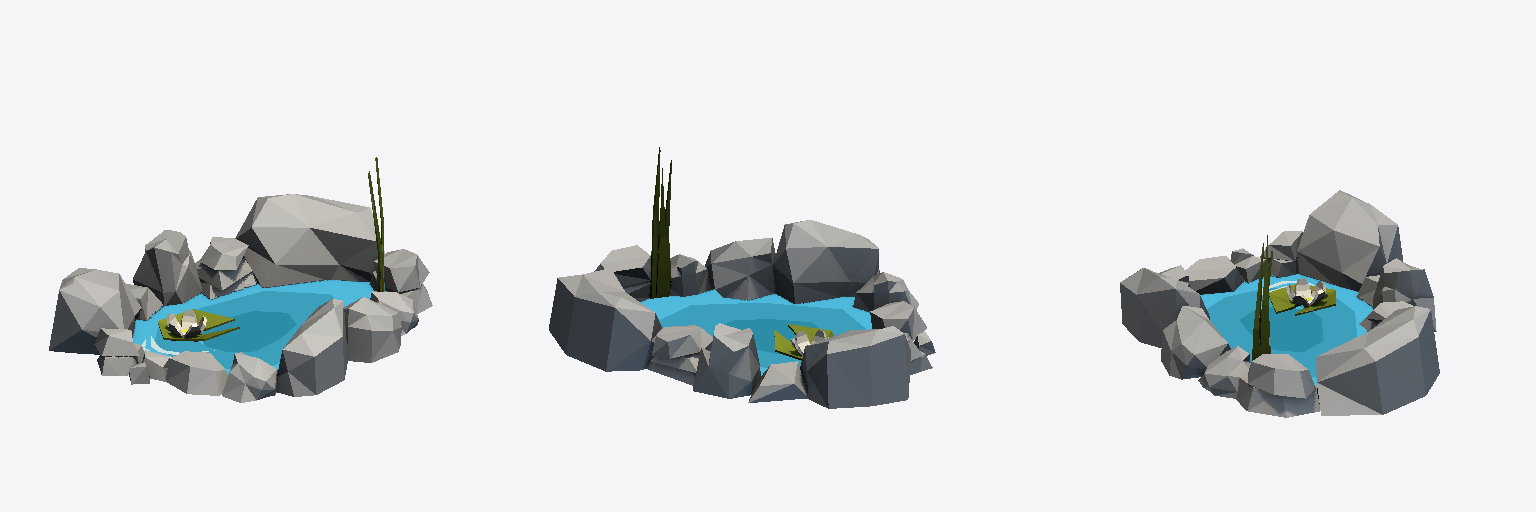
The picture shows the model from 3 angles: view 1: azimuth 30°, elevation 25°; view 2: azimuth 150°, elevation 25°; view 3: azimuth 270°, elevation 25°; orthographic projection.
Visible parts, largest first — view 1: pond; view 2: pond; view 3: pond.
Part boxes in pixels (x1,y1,x2,y2): pond: (49, 157, 432, 402); pond: (549, 147, 935, 408); pond: (1120, 190, 1439, 417).
Bounding box in the file's own units: 2.19 × 0.929 × 1.75.
Materials: 1 (1 with a texture image).